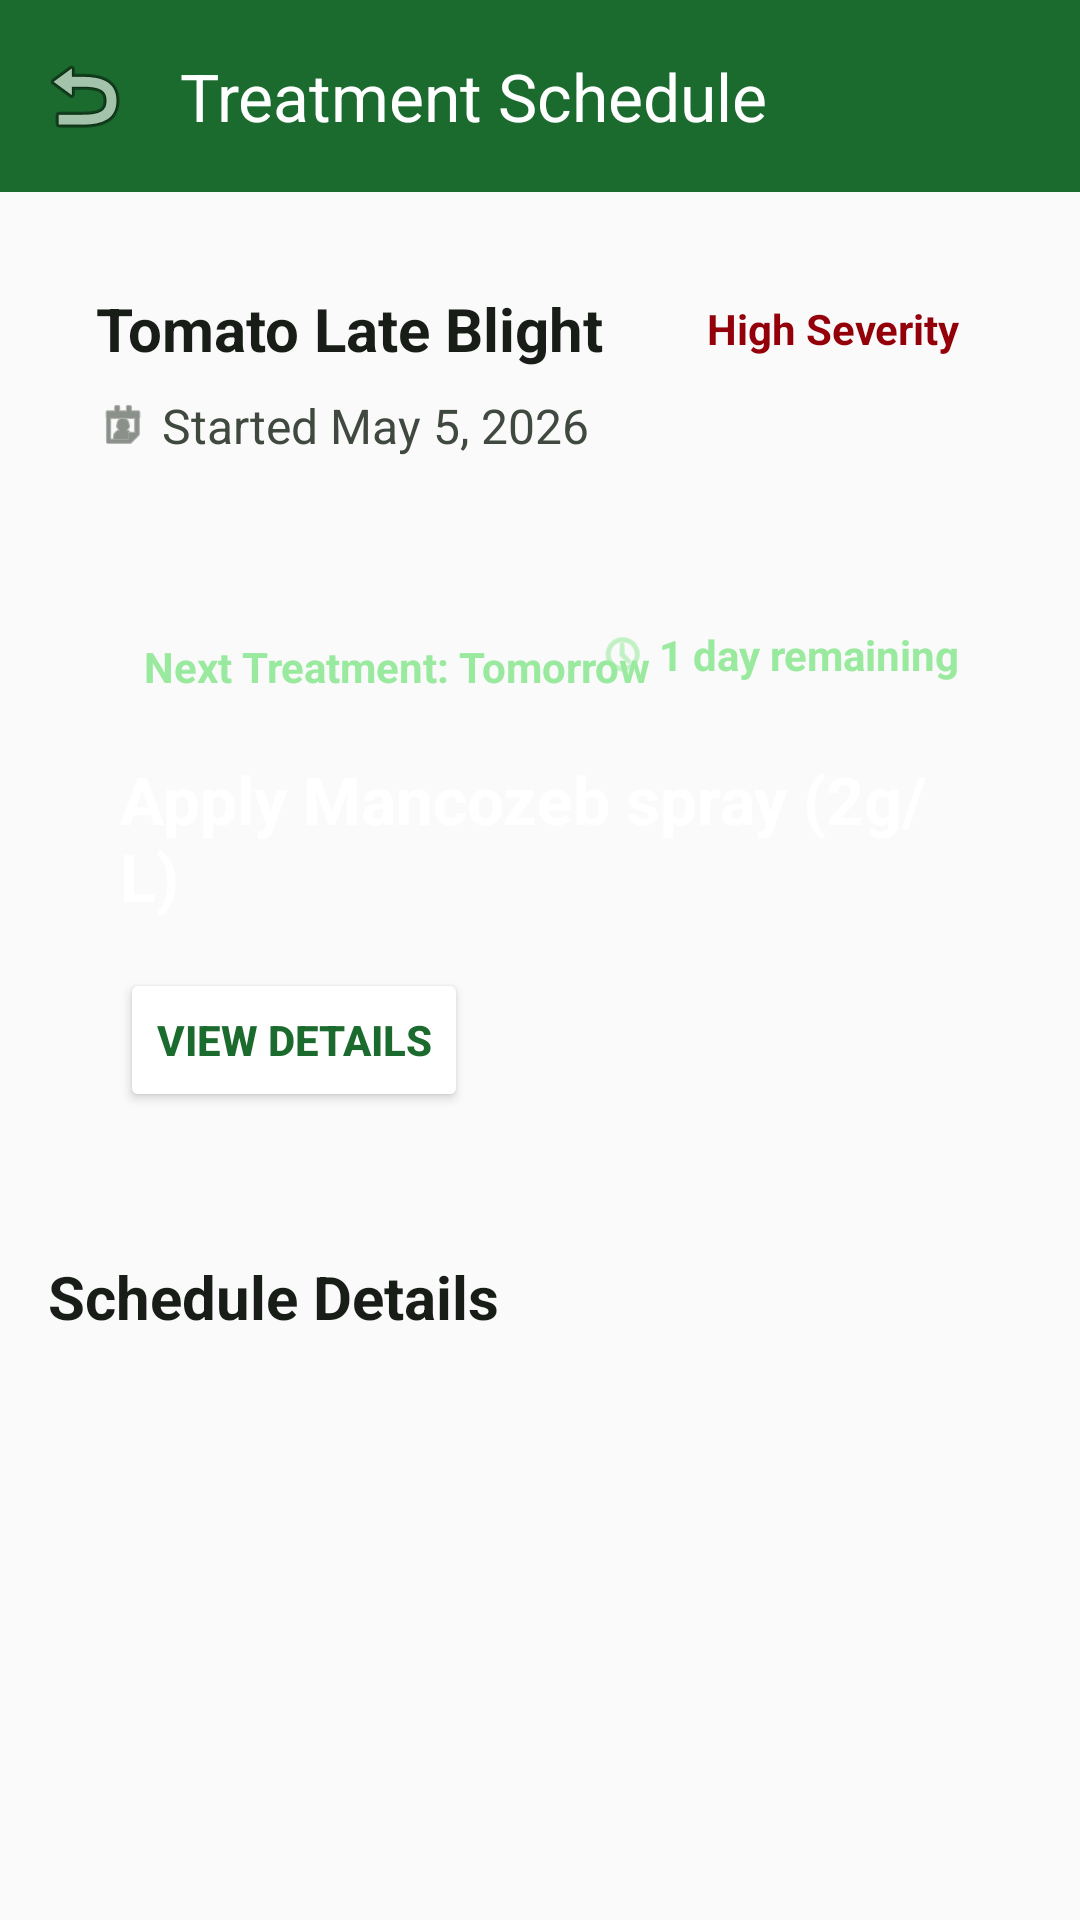

Named icons in this screenshot (1080 × 1920) and their centers, (x=x, y=y):
calendar: (x=123, y=424)
